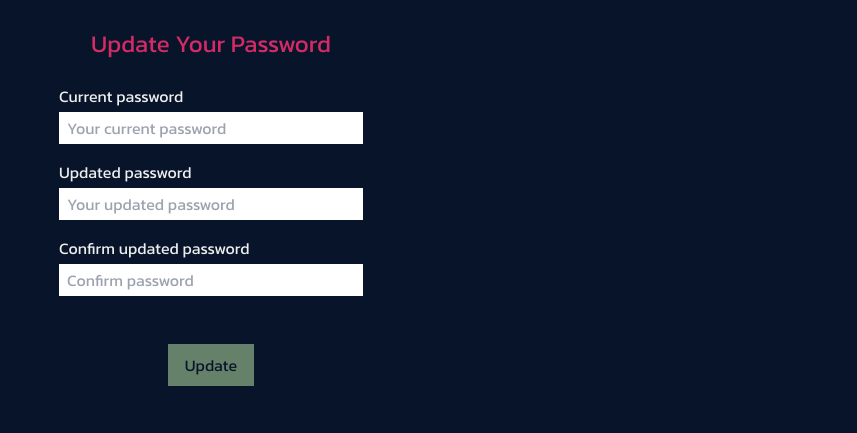
Scenario: Update password form tests: › Submission tests: › Successful submission tests: › It should not show a success message after the close button has been selected
Type "password12£" into the field titled "current password".
click(211, 128); type("password12£")  # box x1=59 y1=112 x2=363 y2=144
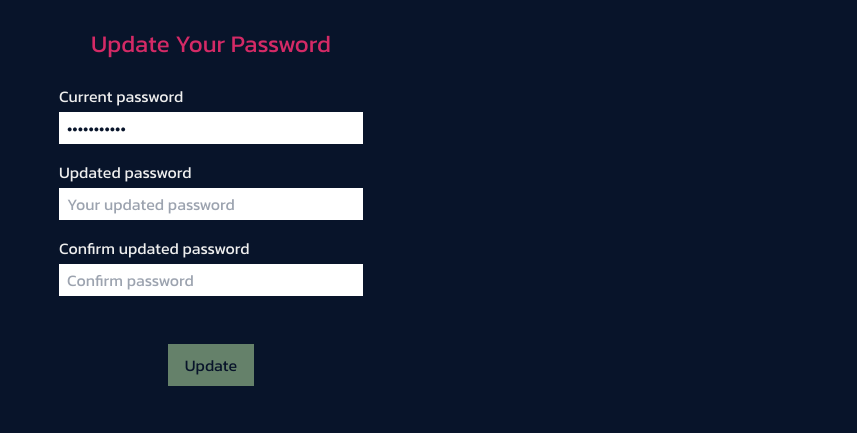
Type "password12£" into the field titled "updated password".
click(211, 204); type("password12£")  # box x1=59 y1=188 x2=363 y2=220
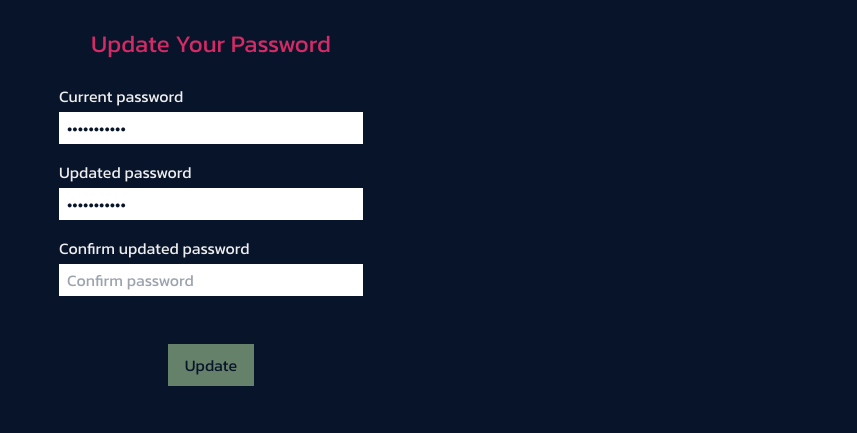
Type "password12£" into the field titled "confirm updated password".
click(211, 280); type("password12£")  # box x1=59 y1=264 x2=363 y2=296
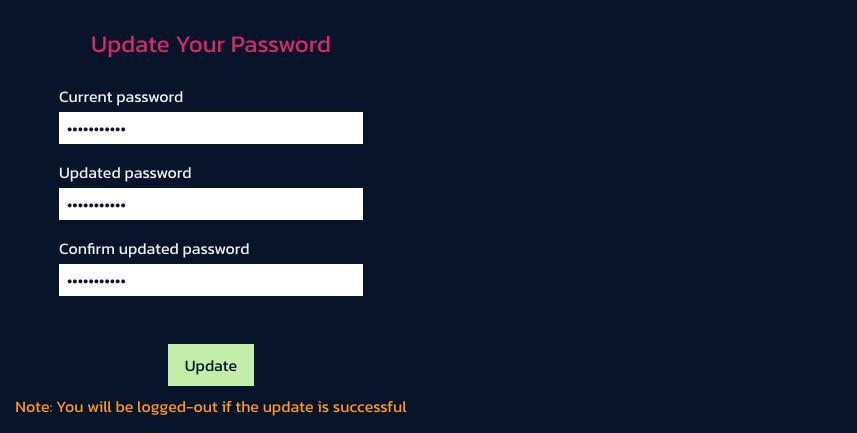
Click the button "Update".
click(211, 365)  # box x1=168 y1=344 x2=254 y2=386
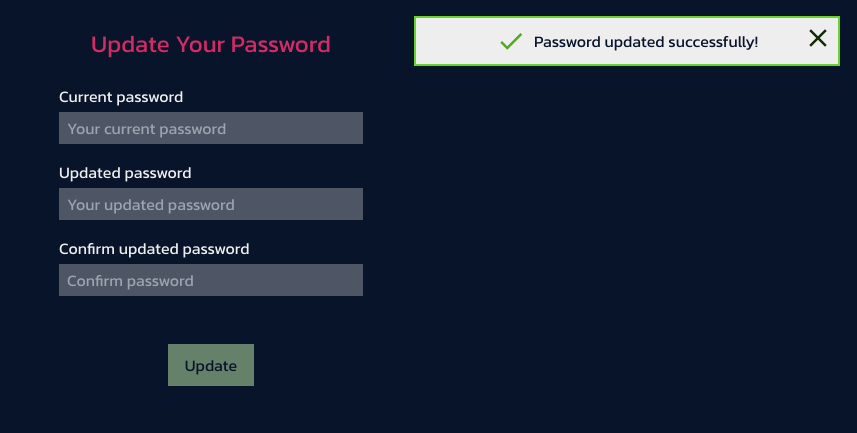
Click the button titled "close".
click(818, 38)  # box x1=803 y1=23 x2=833 y2=53
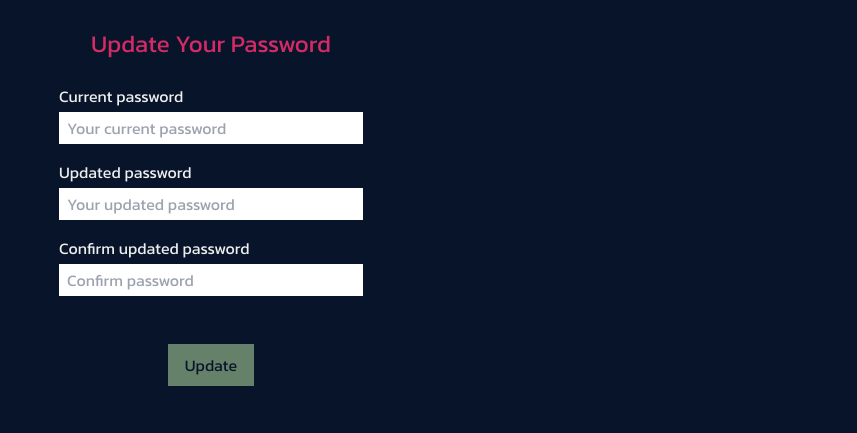
Expected: the text titled "success" is gone
